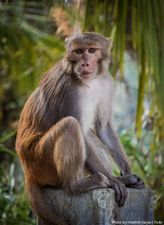monkey: (27, 18, 145, 207)
